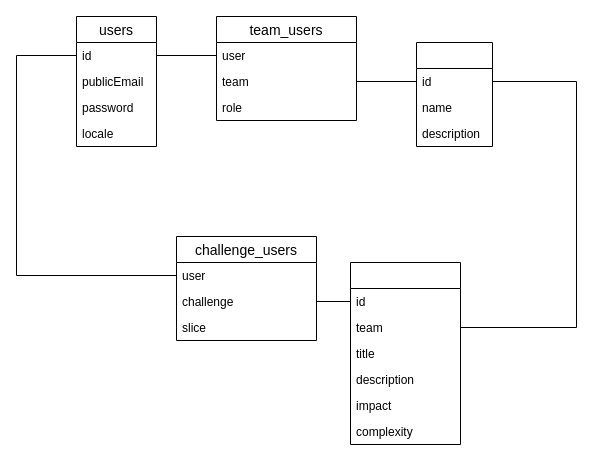
Image size: 593x461. Some labels were removed from this diagram. The box of each missing label's shape, as (x1, y1, x2, y2) in pixels:
challenges: (350, 262, 460, 444)
teams: (416, 42, 492, 146)
